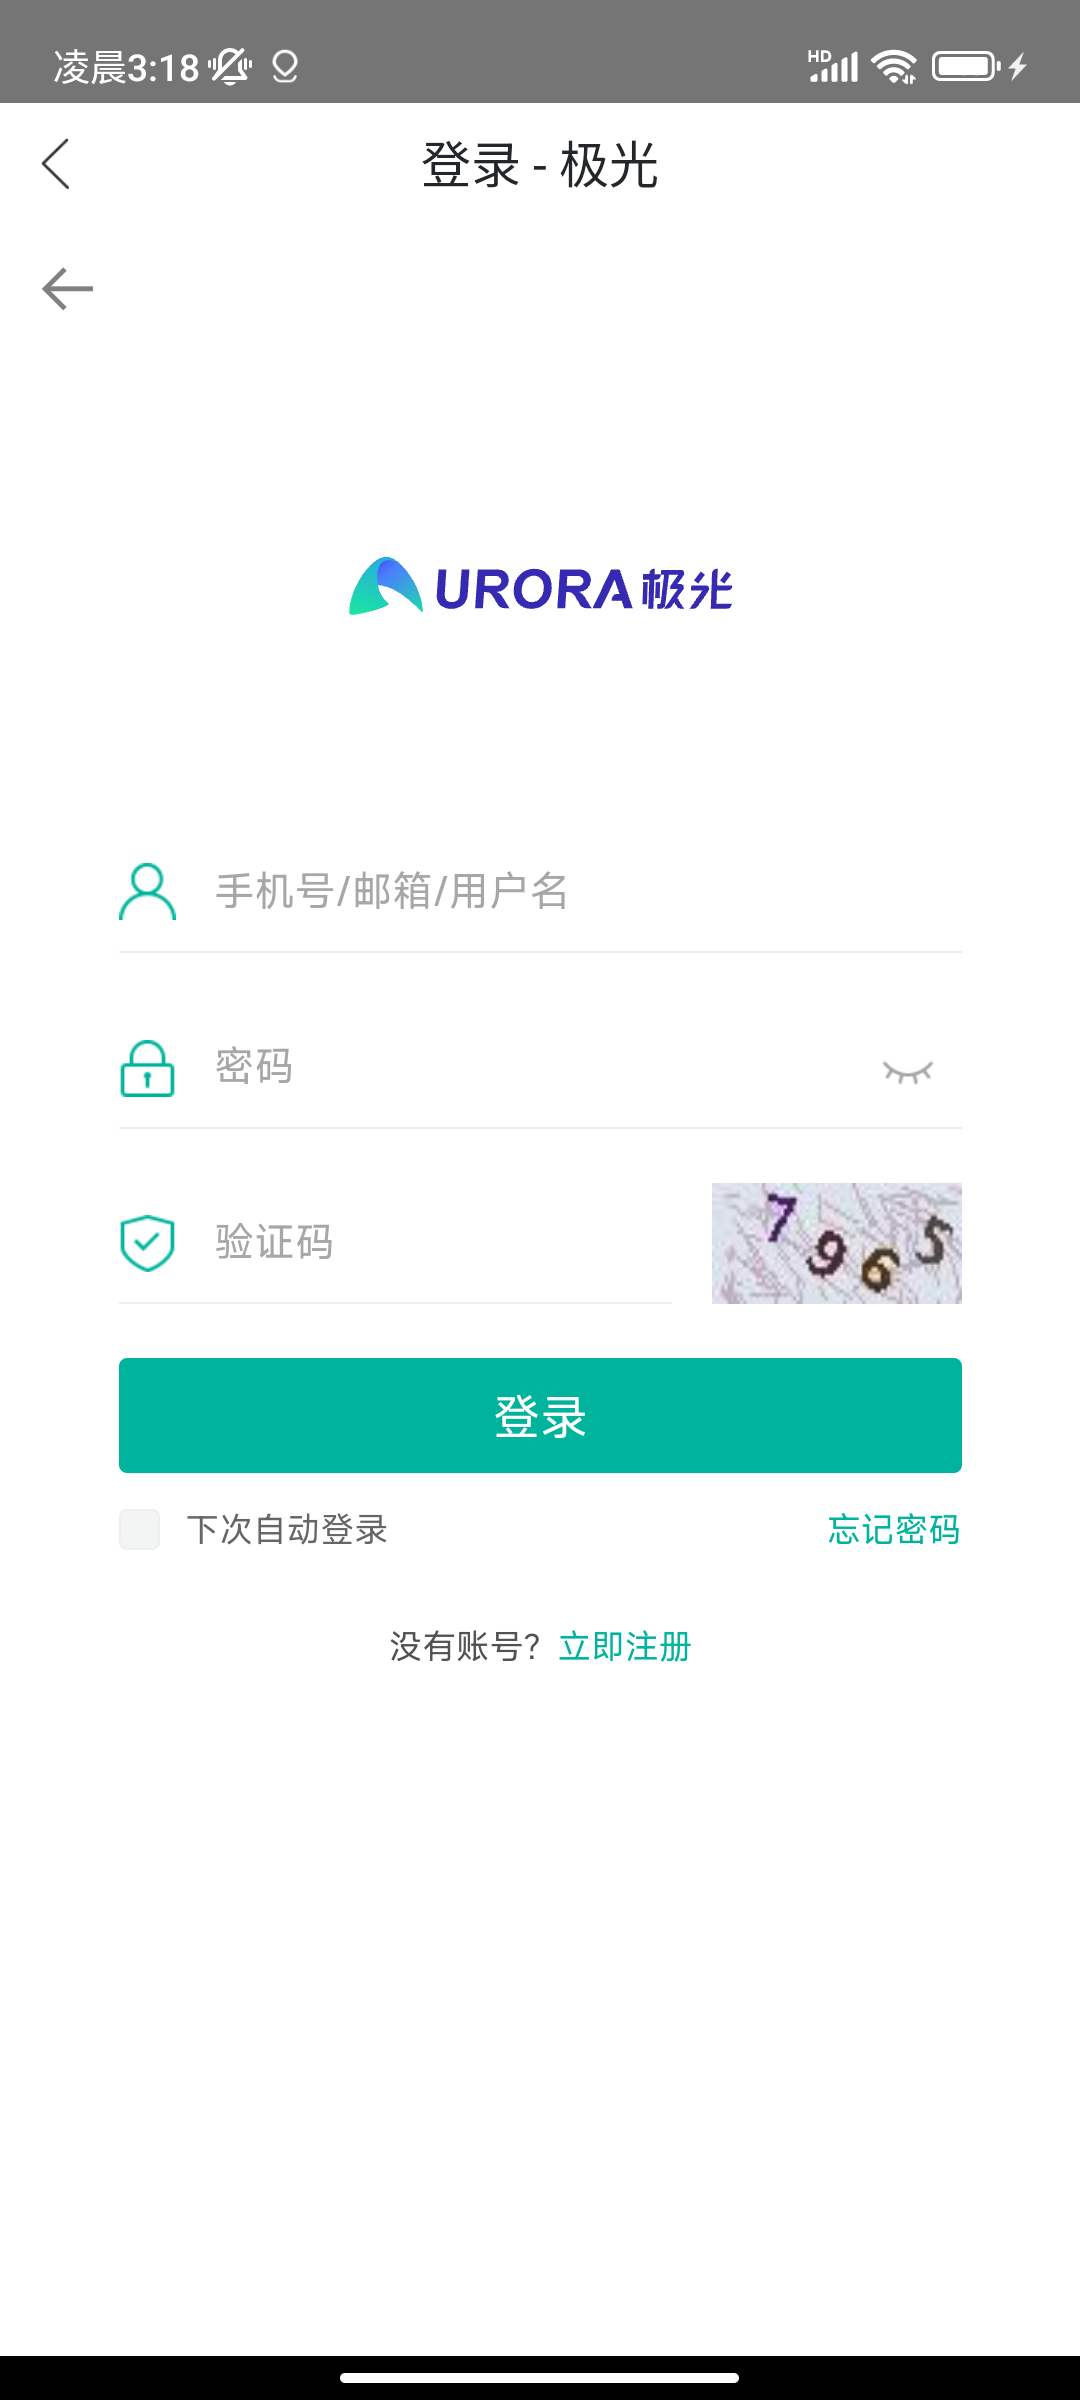ui_group: (72, 778, 1068, 1492)
